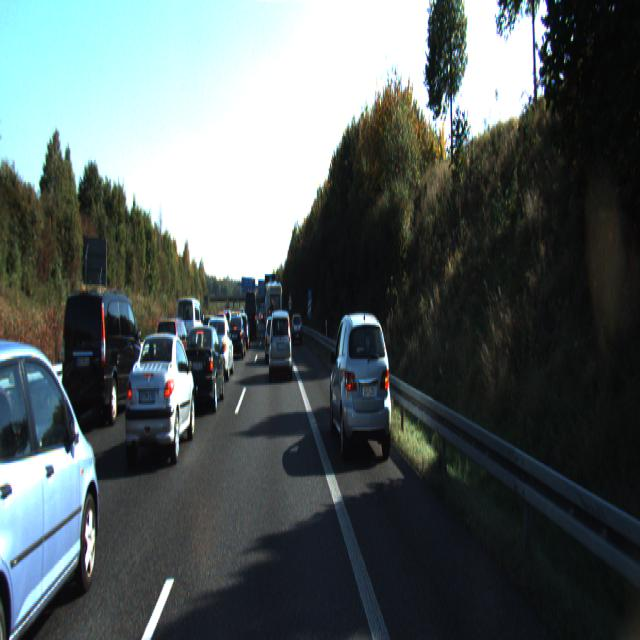Car: (0, 327, 107, 638), (60, 288, 146, 430), (122, 327, 198, 470), (329, 309, 395, 465), (181, 321, 226, 414), (150, 314, 190, 384), (203, 313, 234, 381), (175, 296, 205, 364), (270, 308, 293, 381), (266, 281, 282, 344), (228, 314, 246, 360), (245, 290, 258, 341), (236, 311, 250, 349), (291, 312, 303, 343)
